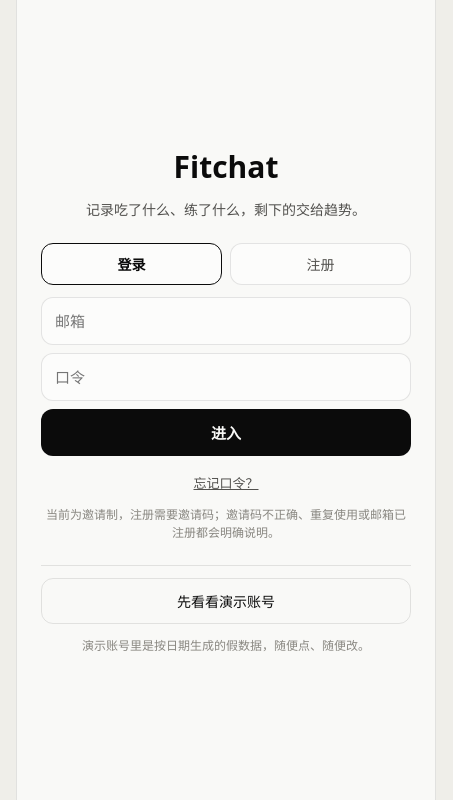
Test: 登录页 › 登录形态有「忘记口令」入口，切到重置形态
Click the button "忘记口令？" at (226, 482), box [41, 472, 411, 493]
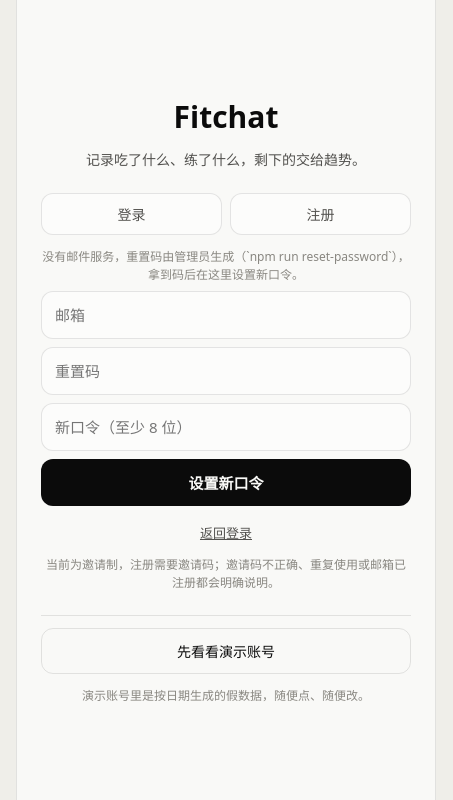
Now the field with placeholder "重置码" is shown, box [41, 347, 411, 395]
Now the password field with placeholder "新口令（至少 8 位）" is shown, box [41, 403, 411, 451]
Now the text "没有邮件服务，重置码由管理员生成（`npm run reset-password`），拿到码后在这里设置新口令。" is shown, box [41, 247, 411, 283]
